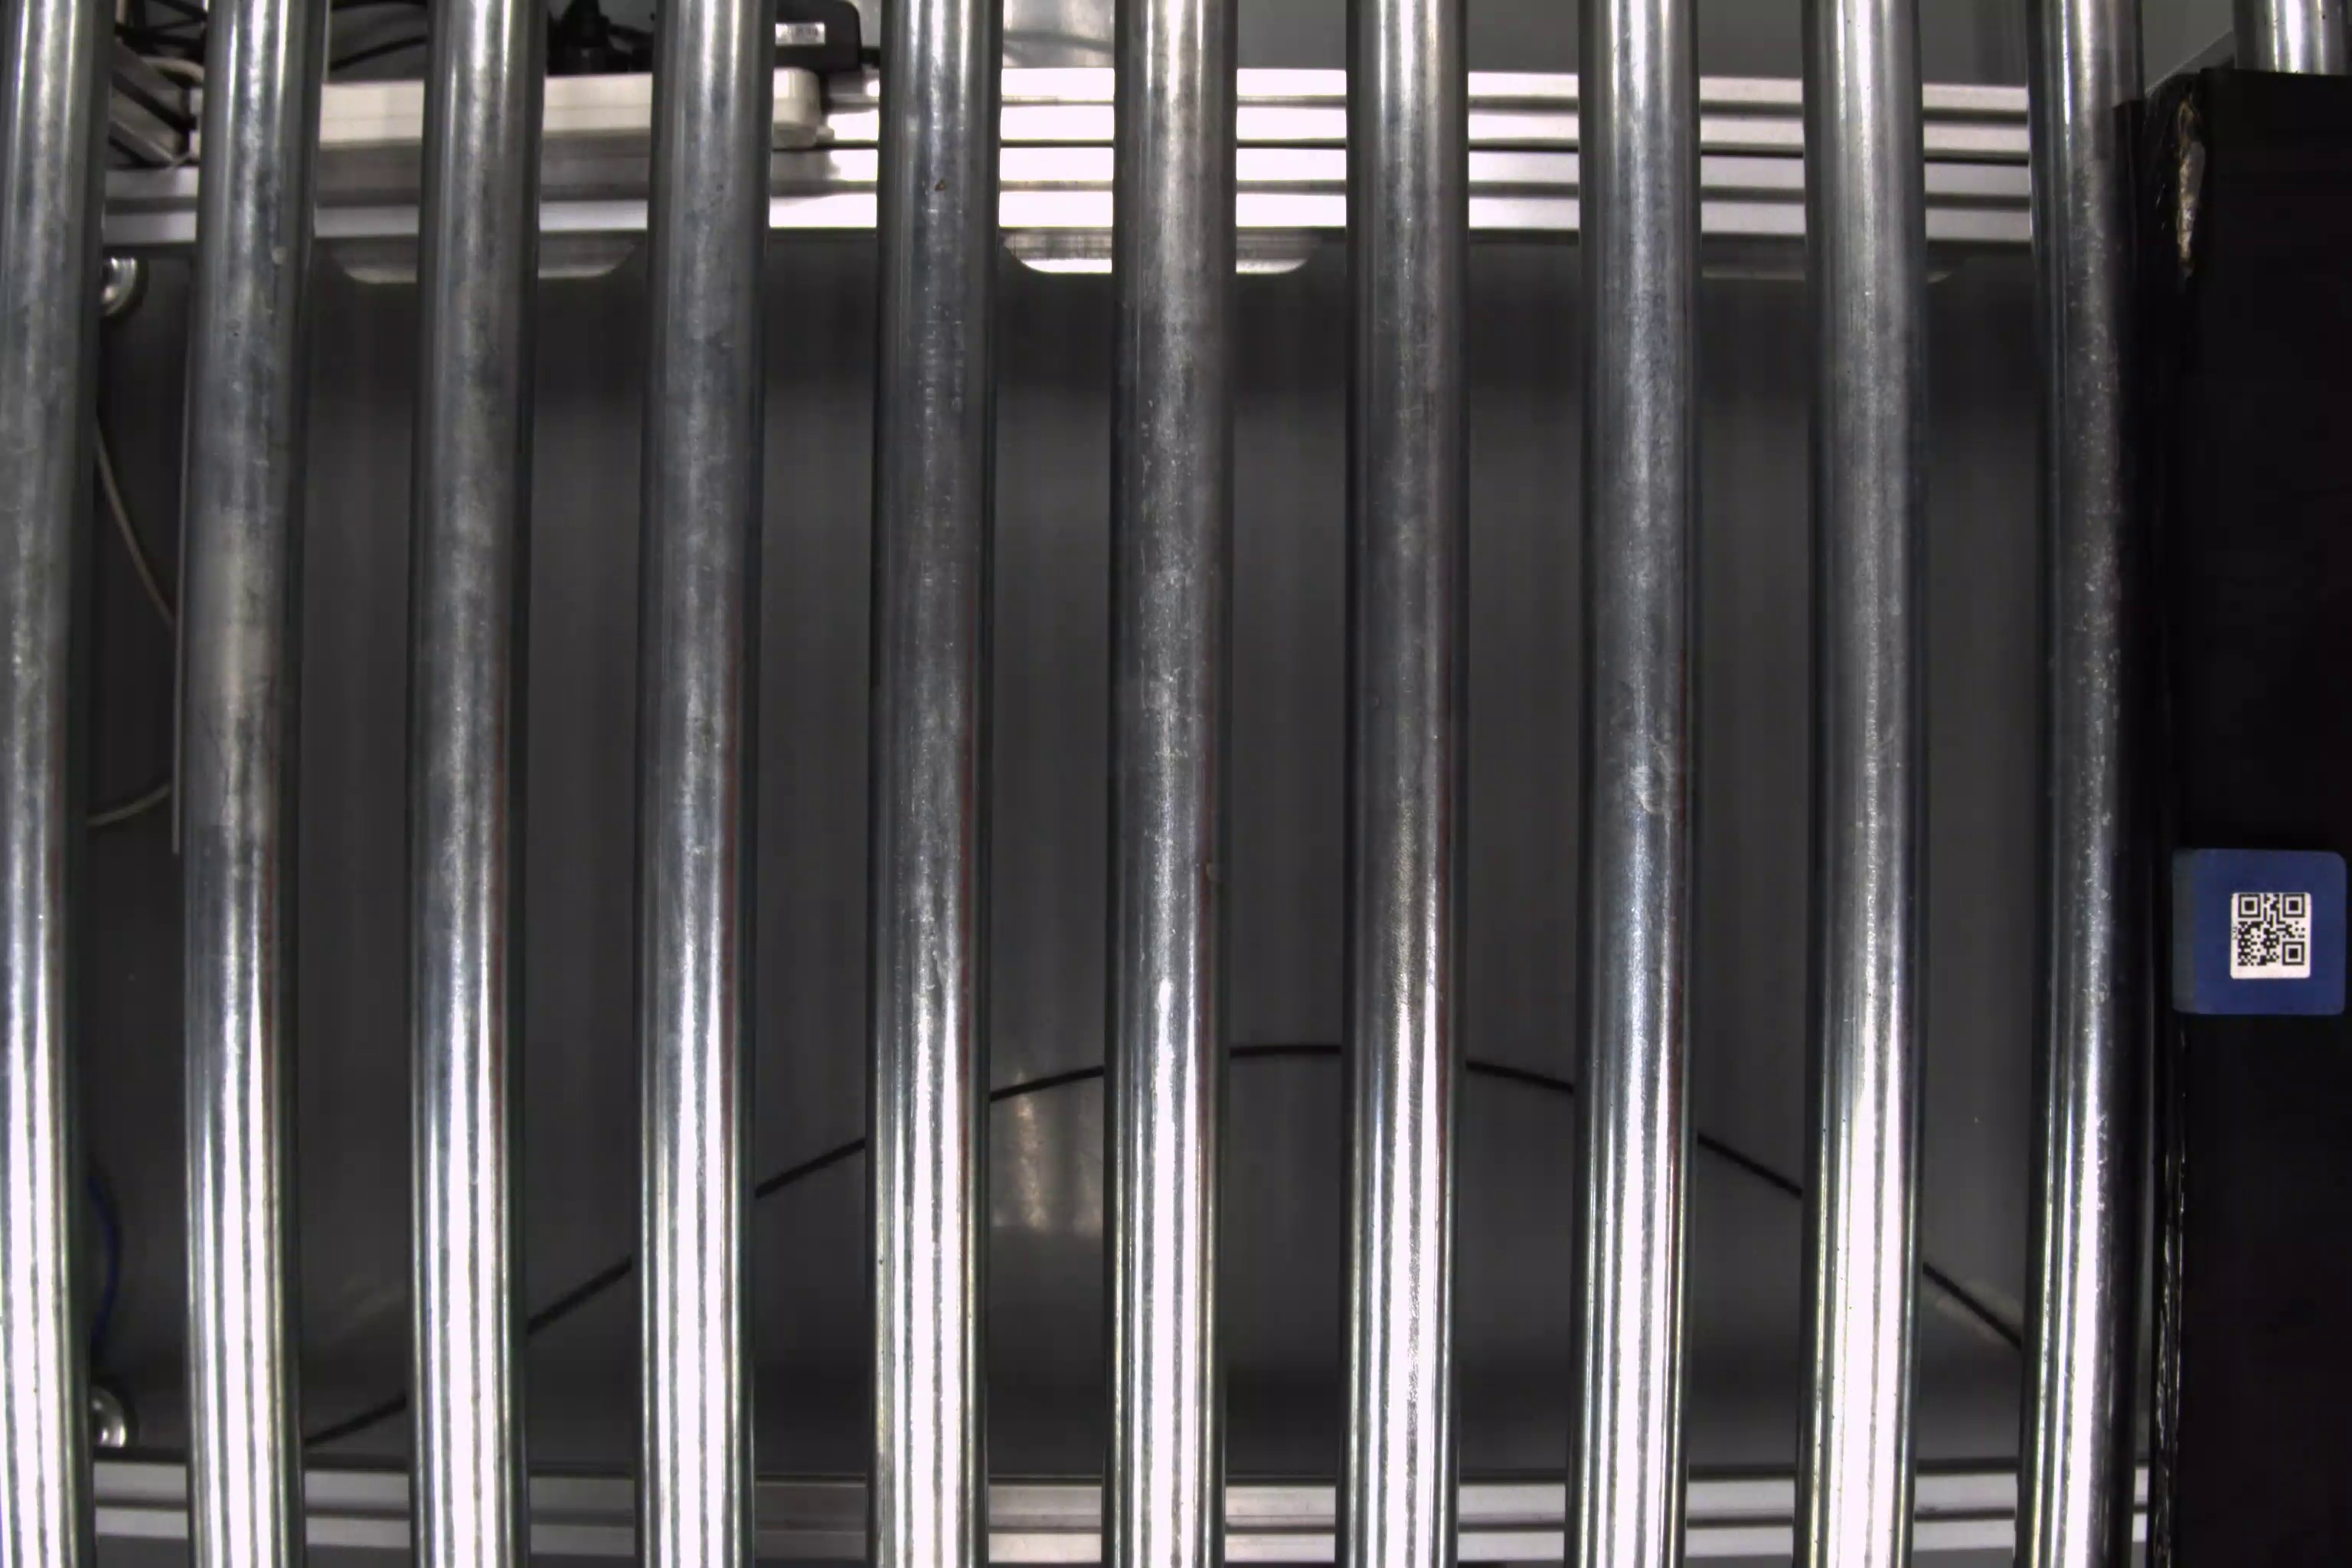wood: (2173, 849, 2347, 1024)
